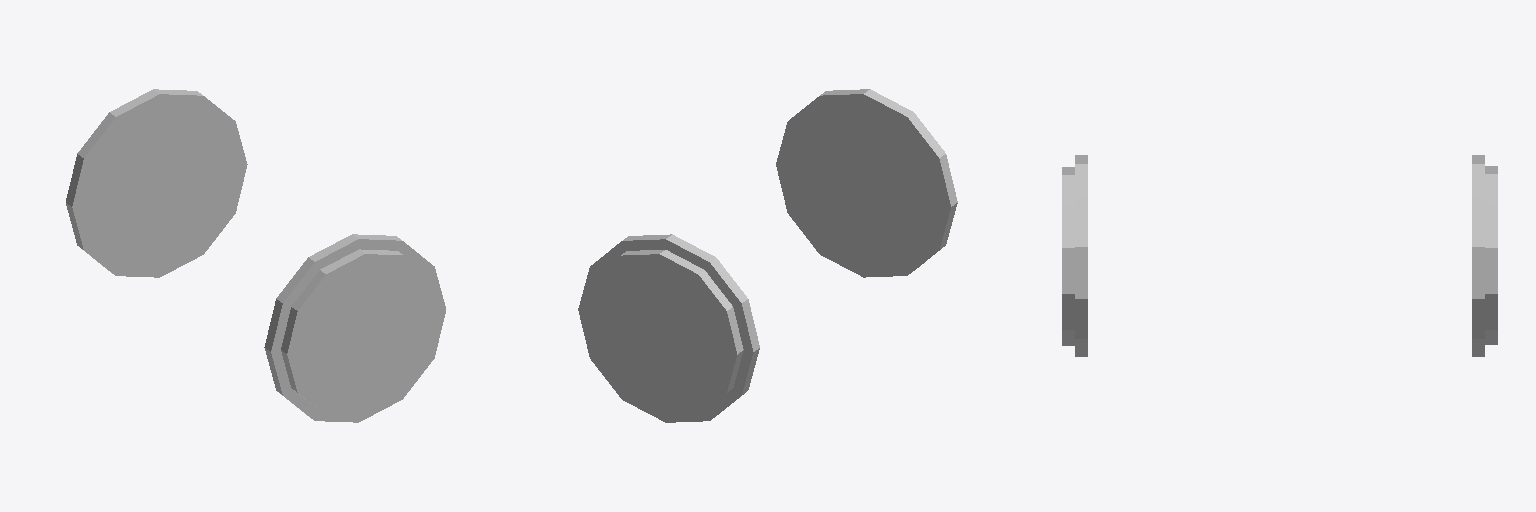
File: cherepanov_wheel.obj
3 renders of one model, left to right at view 1: azimuth 30°, elevation 25°; view 2: azimuth 150°, elevation 25°; view 3: azimuth 270°, elevation 25°, orthographic.
Visible parts, largest first — view 1: Mesh.002_Mesh.002_Circle.001_Circle.002; view 2: Mesh.002_Mesh.002_Circle.001_Circle.002; view 3: Mesh.002_Mesh.002_Circle.001_Circle.002.
Part boxes in pixels (left/top/right/bottom): Mesh.002_Mesh.002_Circle.001_Circle.002: left=66, top=89, right=445, bottom=422; Mesh.002_Mesh.002_Circle.001_Circle.002: left=578, top=89, right=957, bottom=422; Mesh.002_Mesh.002_Circle.001_Circle.002: left=1062, top=155, right=1497, bottom=356.
Bounding box in the file's own units: 0.7905 × 0.7878 × 1.69.